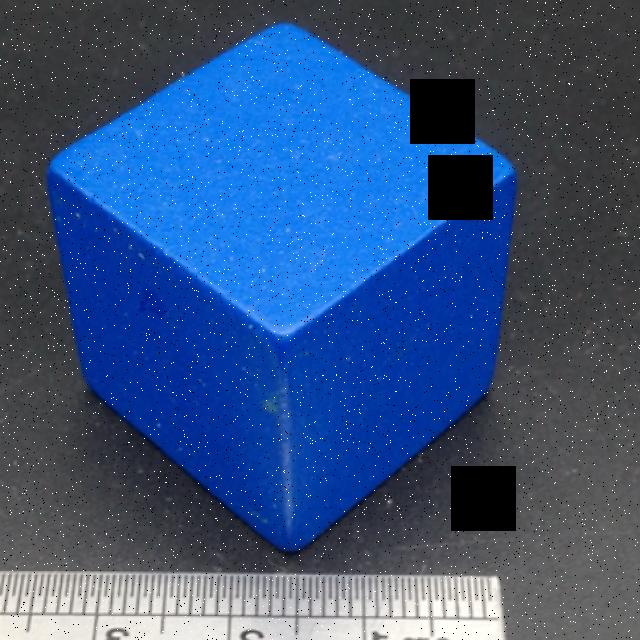bluecube: (45, 23, 520, 557)
